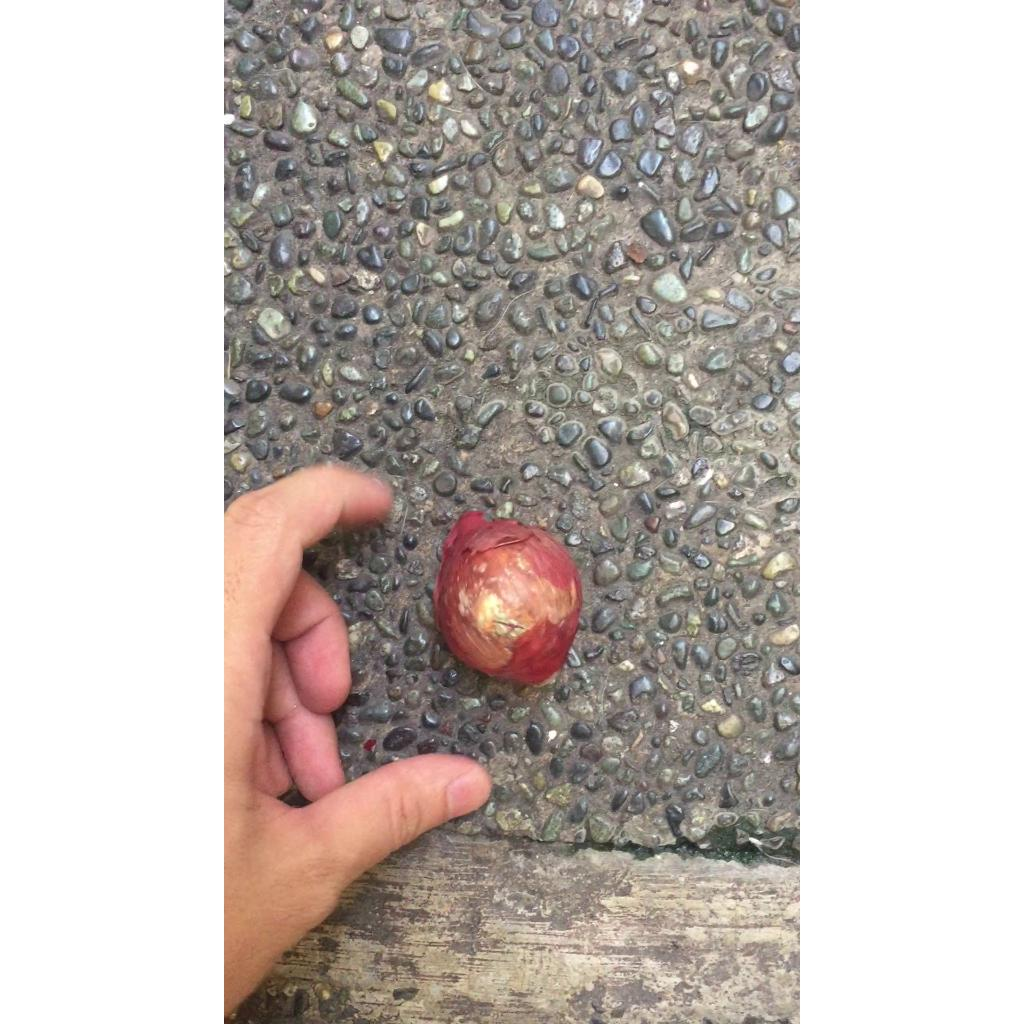Onion: (433, 511, 582, 685)
